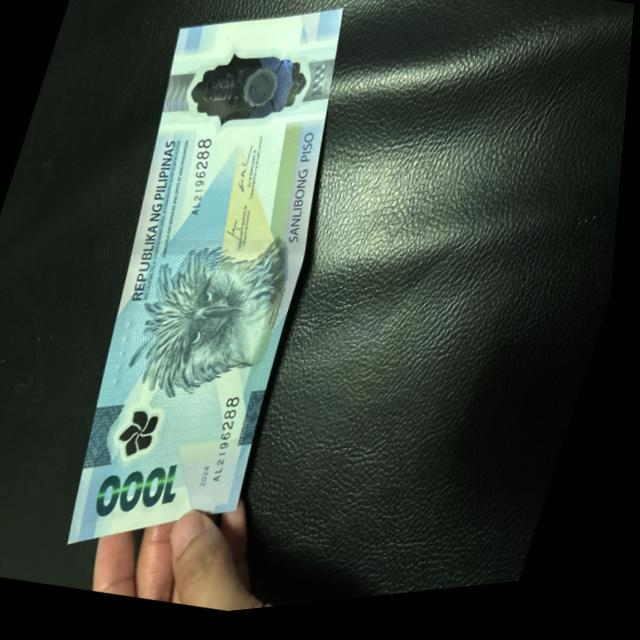eagle: (123, 211, 304, 421)
sampaguita: (181, 33, 317, 158), (114, 403, 171, 467)
